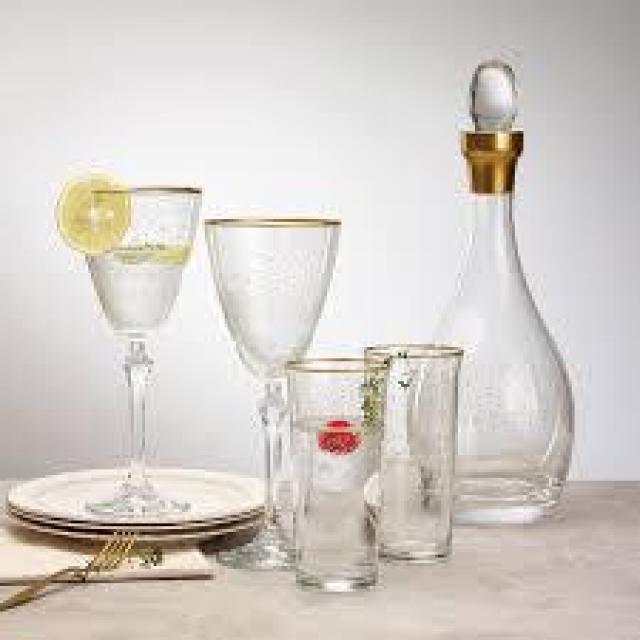non-organic waste: (407, 56, 580, 530), (51, 170, 205, 520), (284, 354, 387, 596)
